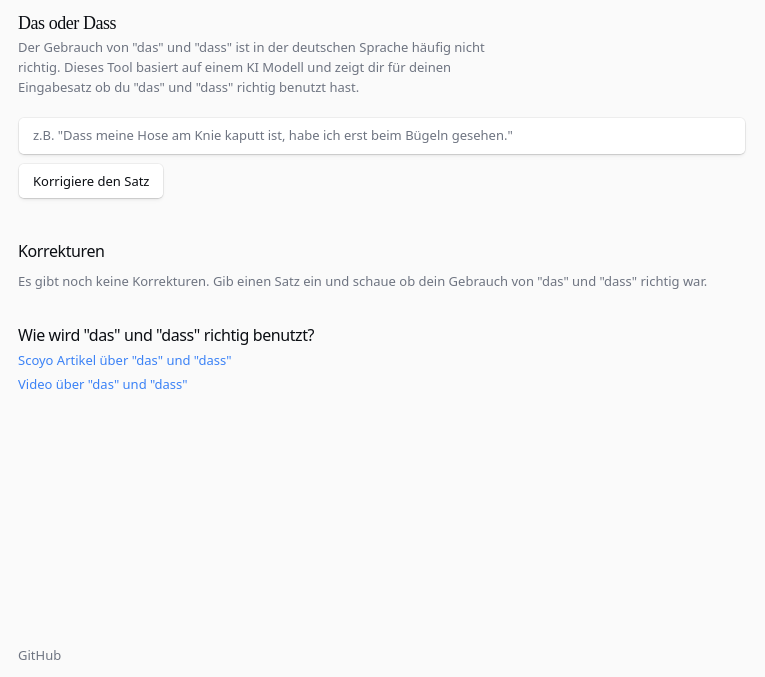
Test: dasordass › should render a message in case of a network error
Type "Das ist ein Test" into the field at (382, 136), box [18,117,746,155]
Then press Enter
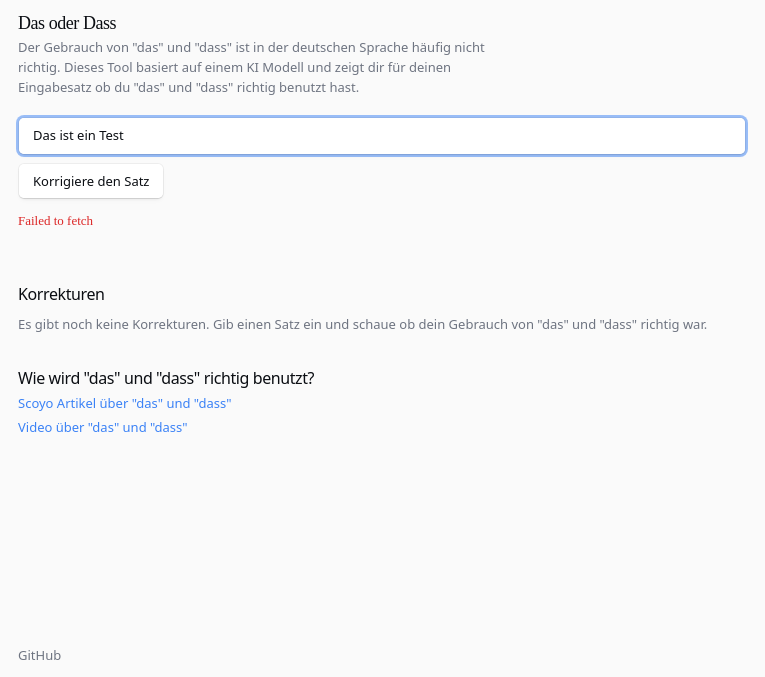
Expected: the text "Failed to fetch" is shown, [18,212,93,228]
